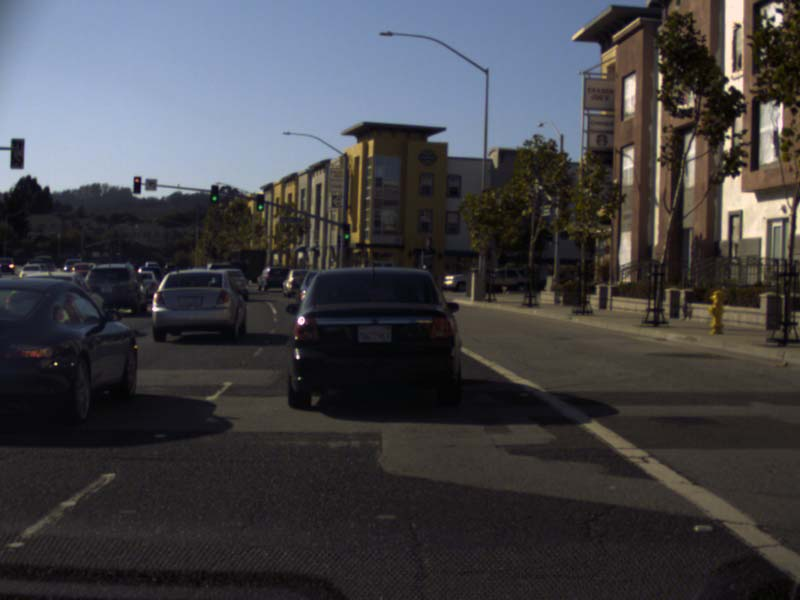Green: (210, 186, 217, 202), (343, 225, 350, 240), (257, 196, 263, 210)
Red: (133, 177, 141, 192)
